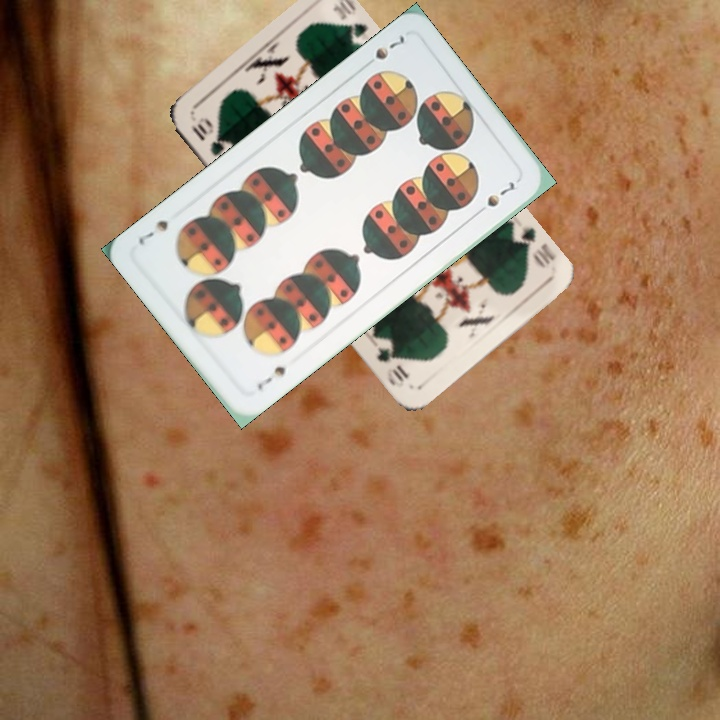G10: (507, 223, 559, 271), (187, 113, 227, 159)
S7: (371, 31, 408, 63), (253, 361, 289, 393)
